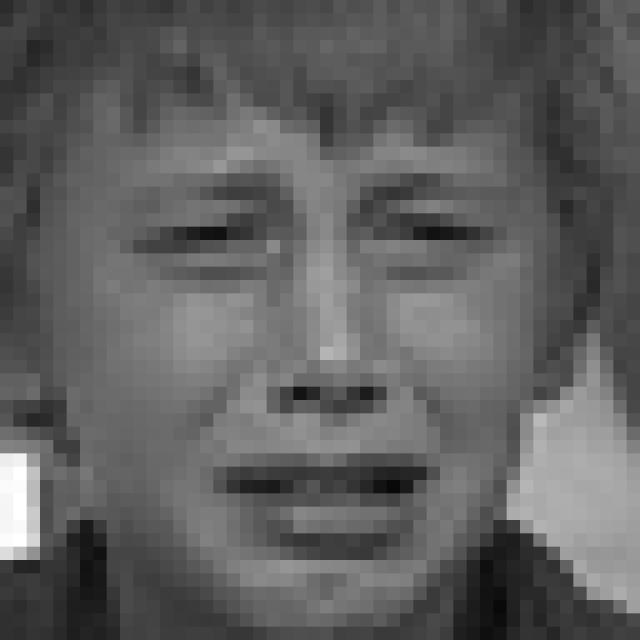sad: (110, 128, 523, 577)
